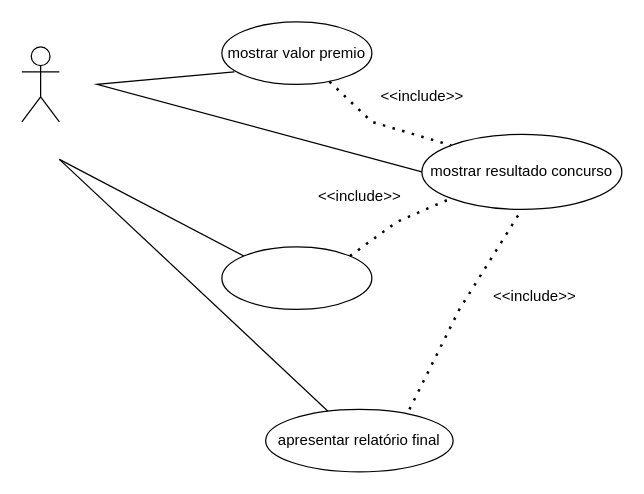
The diagram is 644 pixels wide and 494 high, and some of its shapes have lost their labels. Each missing label, with the centre of its shape:
"Actor" goes at [40,84].
"cadastrar cartões" goes at [296,277].
